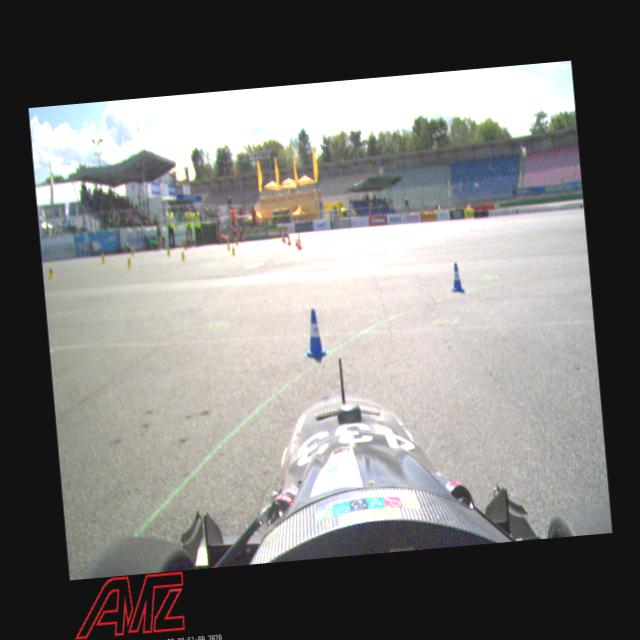blue_cone: (300, 307, 328, 359), (448, 261, 464, 292)
large_orange_cone: (296, 232, 302, 249), (286, 229, 292, 245), (280, 228, 284, 241)
orange_cone: (294, 236, 298, 246), (282, 234, 286, 243)
yellow_cone: (46, 264, 54, 278), (125, 255, 132, 267), (230, 244, 236, 256), (100, 252, 106, 264), (180, 250, 186, 260), (166, 246, 170, 256)
